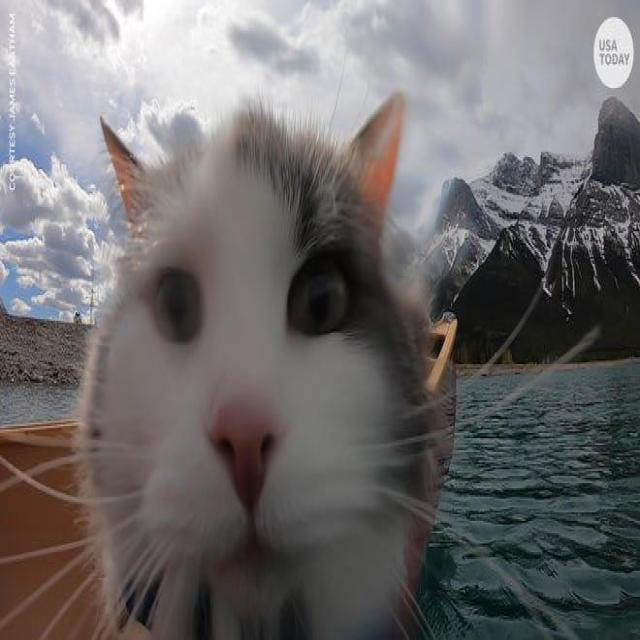Cat: (67, 78, 434, 627)
